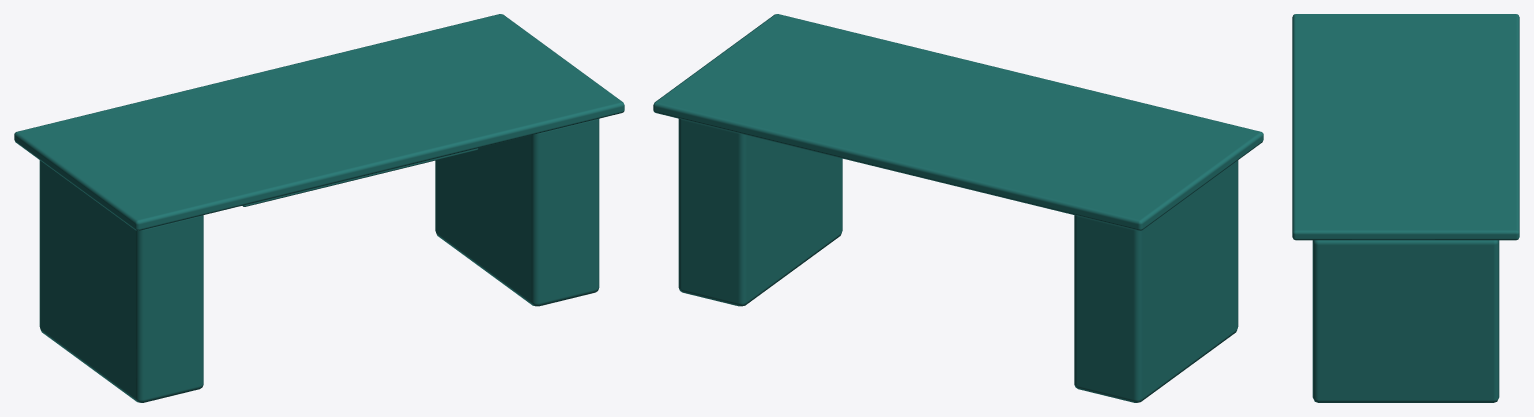
File: desk_walnut_executive-f666d29a202c.glb
The picture shows the model from 3 angles, left to right: view 1: azimuth 30°, elevation 25°; view 2: azimuth 150°, elevation 25°; view 3: azimuth 270°, elevation 25°; orthographic projection. The views are drawn at different scales.
Visible parts, largest first — view 1: surface_teal; view 2: surface_teal; view 3: surface_teal.
Part boxes in pixels (x1,y1,x2,y2): surface_teal: (14,14,624,402); surface_teal: (653,14,1263,402); surface_teal: (1292,14,1519,402).
Size of the model in its own units: 1.96 by 0.75 by 0.86.
